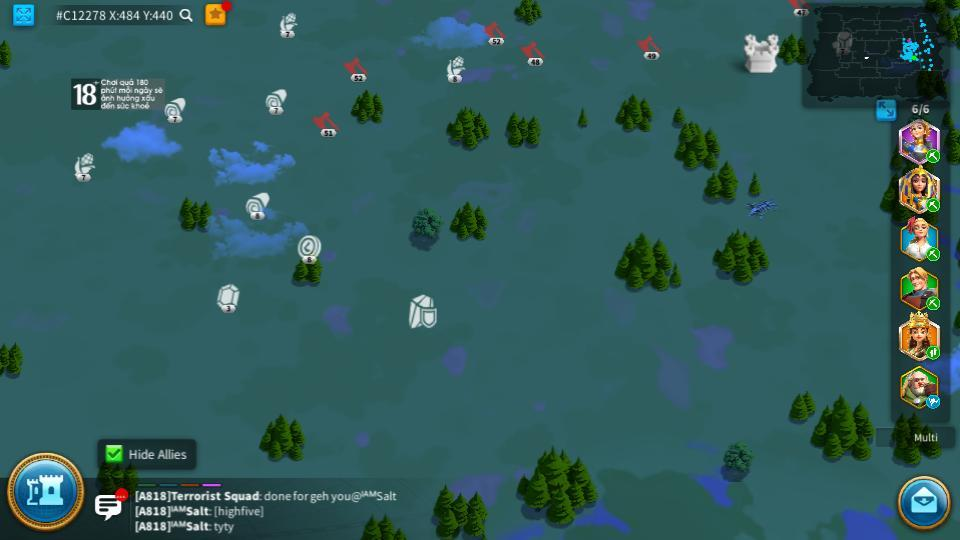gem-z-out: (215, 285, 241, 312)
march_farming: (925, 197, 941, 212), (925, 345, 941, 359), (925, 248, 941, 260), (925, 297, 942, 308)
march_marching: (925, 150, 942, 162)
